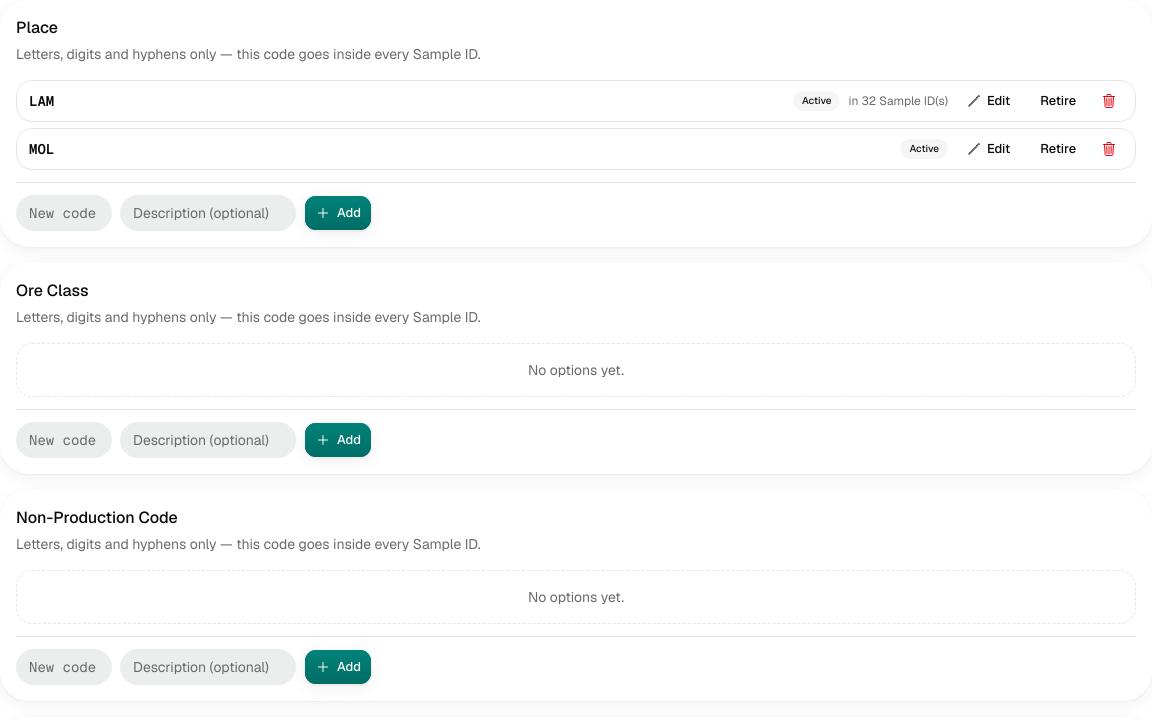
MasterDataTables › leaves an unused code editable
Expected: the text "MOL" is shown, [29,139,54,159]
Click the button "Edit" in the row of "MOL".
click(989, 149)  # box [956,135,1021,163]
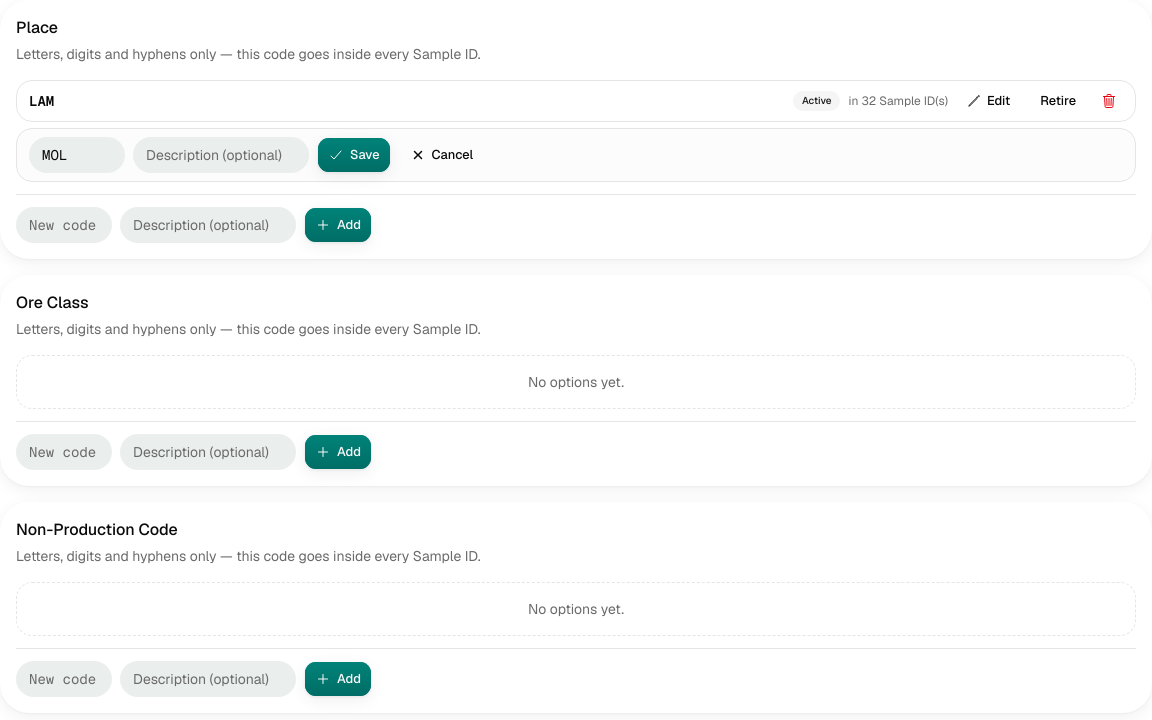
Expected: the field showing "MOL" is enabled, [29,137,125,173]
